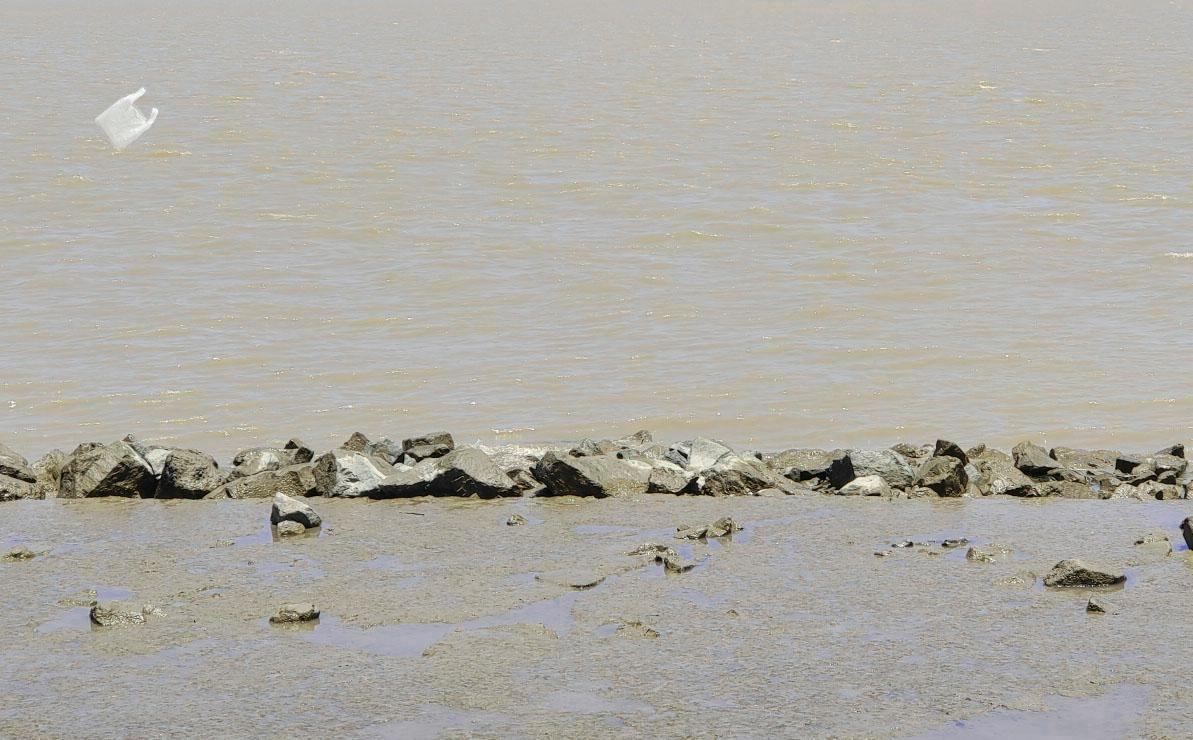Trash: (97, 83, 160, 155)
